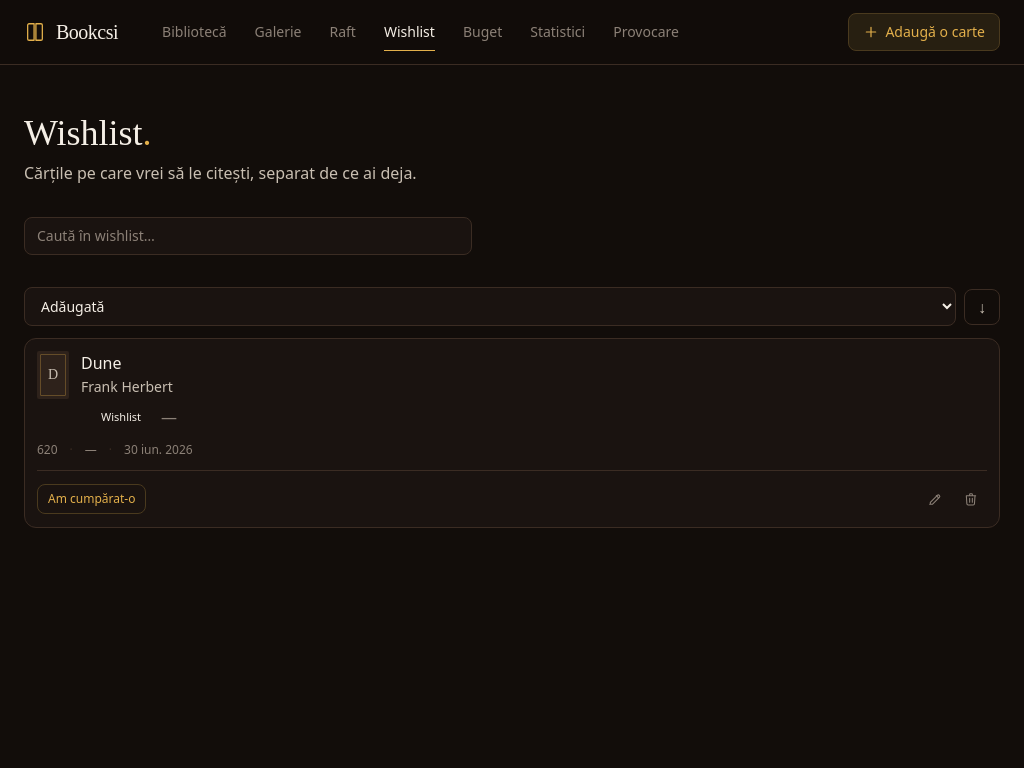
Test: BookProfilePage — the way back (§D41) › carries a different origin from a different screen
The width and height of the screenshot is (1024, 768).
Click the button "Dune" at coordinates (101, 363), box [81,351,122,375]
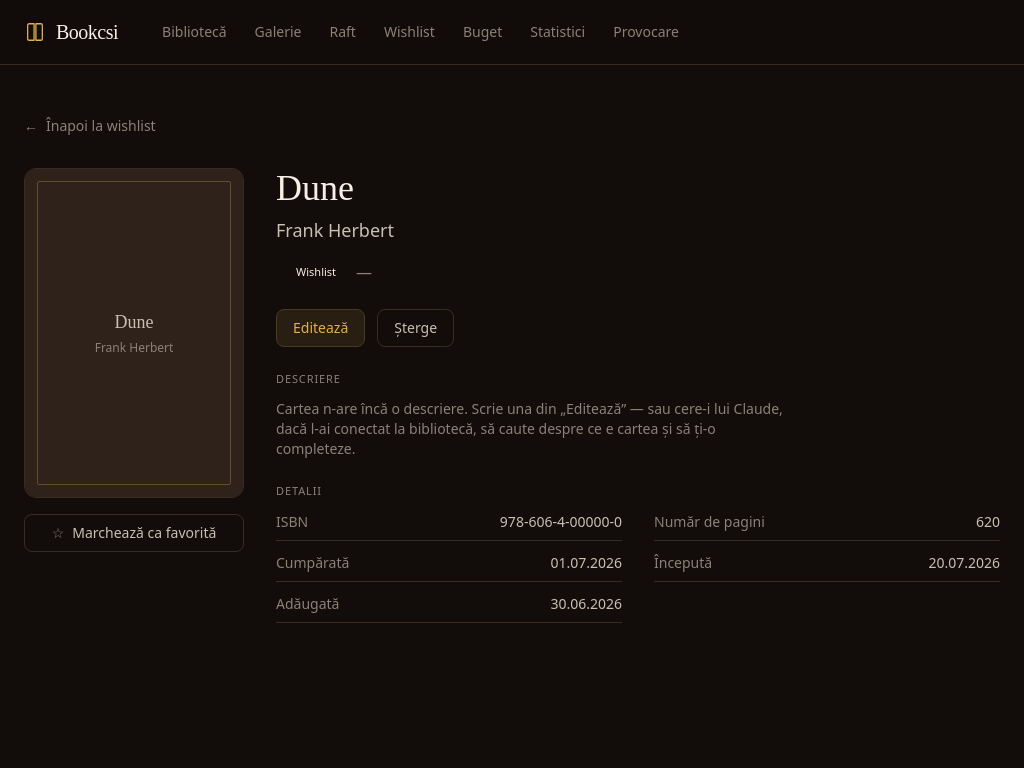
Expected: the link "← Înapoi la wishlist" is shown, [24,116,156,136]
